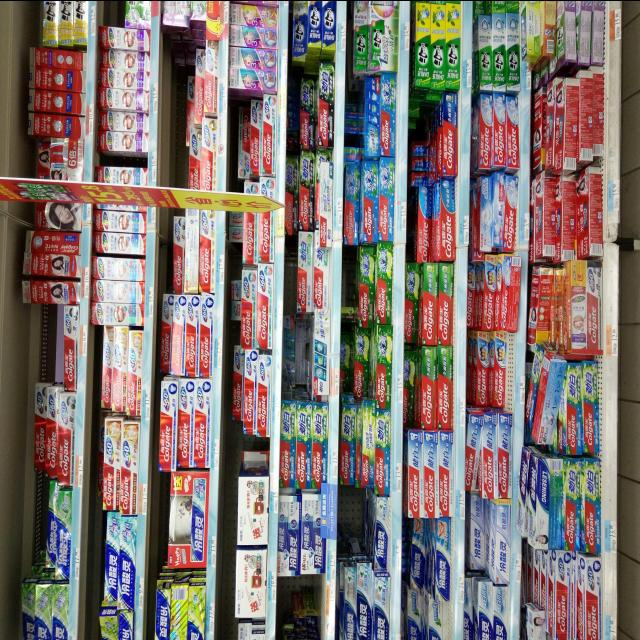empty_space: (280, 580, 317, 632)
